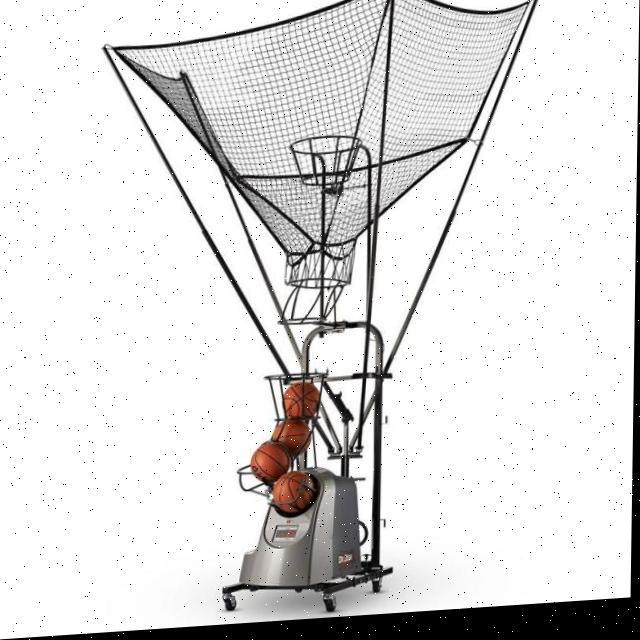Basketball: (273, 470, 314, 515), (251, 442, 290, 485), (272, 418, 311, 457), (283, 380, 320, 420)
hoop: (288, 133, 363, 187)
